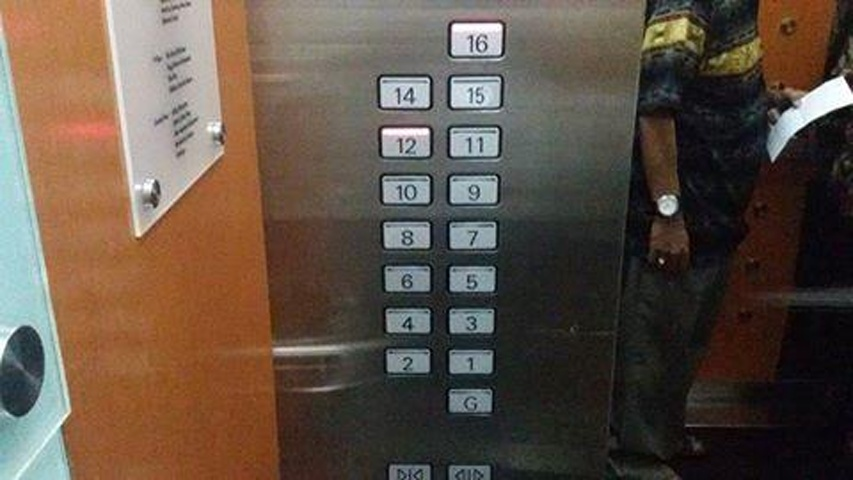1: (445, 346, 496, 376)
10: (378, 170, 435, 207)
11: (445, 122, 504, 161)
12: (377, 122, 435, 160)
14: (374, 72, 435, 113)
15: (445, 72, 507, 114)
16: (445, 18, 508, 62)
2: (382, 346, 434, 379)
3: (444, 305, 500, 337)
4: (383, 305, 435, 336)
5: (445, 264, 500, 295)
6: (382, 261, 434, 296)
7: (446, 218, 500, 253)
8: (380, 217, 435, 252)
9: (445, 170, 502, 209)
G: (446, 385, 495, 416)
